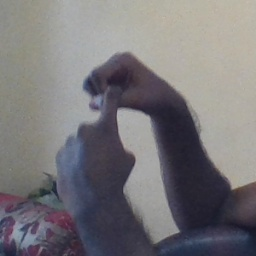Q: (51, 50, 159, 191)
